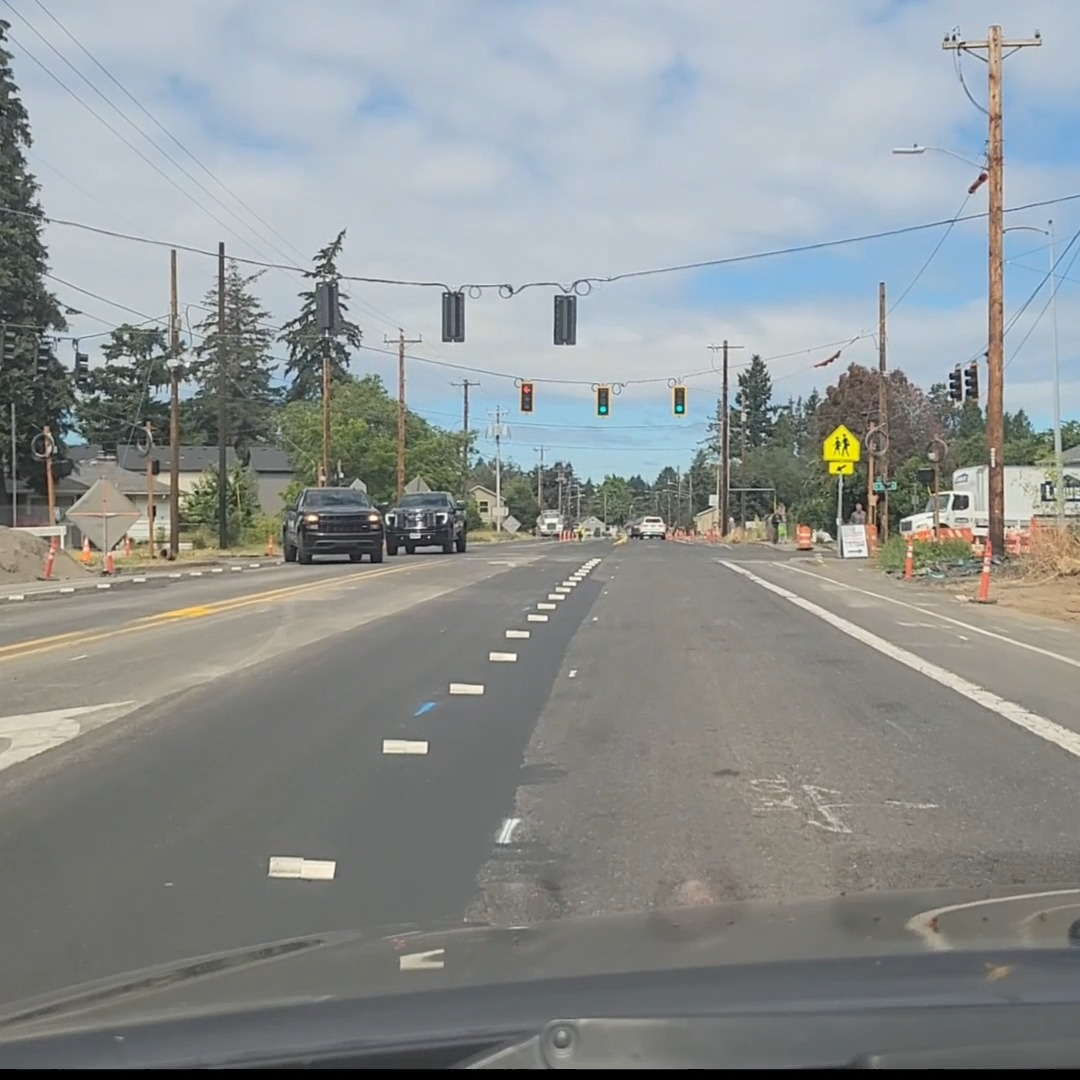car: (281, 487, 386, 564), (382, 491, 467, 556), (627, 514, 668, 538)
crosswalk-sign: (822, 423, 860, 474)
delineator: (969, 533, 995, 603), (42, 538, 58, 579), (903, 537, 914, 579), (79, 537, 93, 564), (867, 523, 877, 555), (264, 532, 276, 556), (104, 550, 116, 574), (123, 535, 132, 556)
